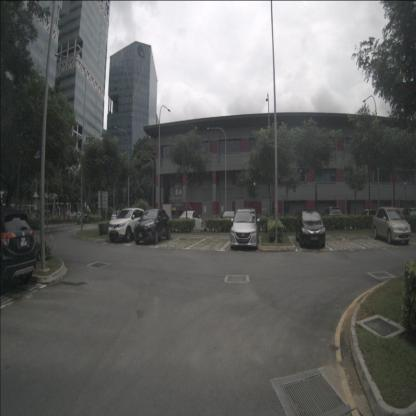vehicle-car: (0, 210, 38, 293), (372, 207, 412, 245), (229, 206, 260, 252), (134, 207, 172, 244), (108, 207, 146, 243), (295, 208, 326, 250), (178, 209, 204, 232), (395, 206, 416, 231), (322, 205, 342, 224), (361, 208, 379, 223), (222, 210, 236, 226), (77, 213, 92, 225), (111, 210, 122, 222), (66, 211, 76, 220), (77, 212, 86, 221)
